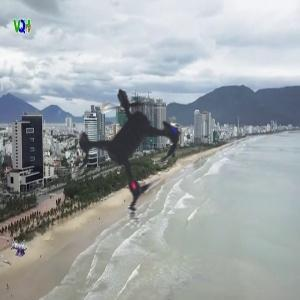drone: (4, 22, 246, 264)
